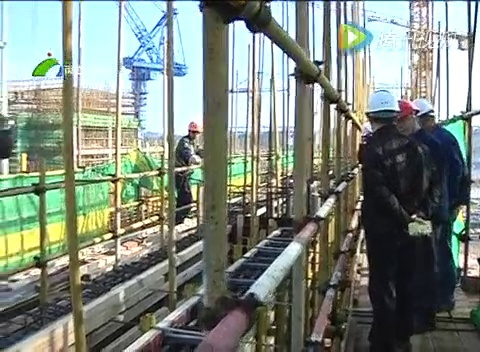red: (394, 96, 417, 130)
white: (363, 87, 398, 129), (412, 97, 436, 127)
yellow: (185, 119, 200, 139)
